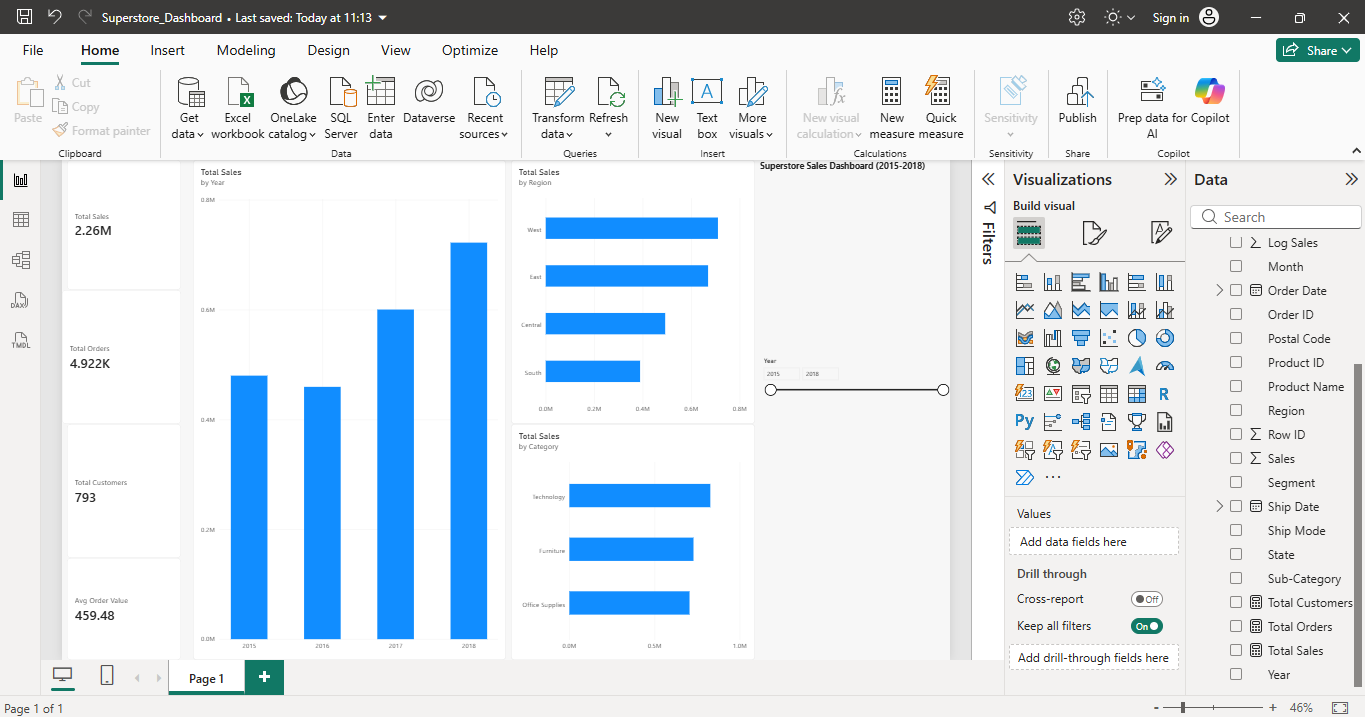

The page's visual inventory and layout, read from the dashboard file:
{"tool":"powerbi","page":{"name":"Page 1","canvas":[1920,1080],"ordinal":0},"visuals":[{"type":"cardVisual","fields":{"Data":["superstore_cleaned.Total Sales"]},"box":[10.8,0,246.2,280.8],"z":0},{"type":"cardVisual","fields":{"Data":["superstore_cleaned.Total Orders"]},"box":[0,280.8,257,289.4],"z":1000},{"type":"cardVisual","fields":{"Data":["superstore_cleaned.Total Customers"]},"box":[10.8,570.2,246.2,289.4],"z":2000},{"type":"cardVisual","fields":{"Data":["superstore_cleaned.Avg Order Value"]},"box":[10.8,859.7,246.2,220.3],"z":3000},{"type":"lineClusteredColumnComboChart","fields":{"Category":["superstore_cleaned.Year"],"Y":["superstore_cleaned.Total Sales"]},"box":[283,0,676.1,1080],"z":4000},{"type":"barChart","fields":{"Category":["superstore_cleaned.Category"],"Y":["superstore_cleaned.Total Sales"]},"box":[969.8,570.2,527,509.8],"z":5000},{"type":"barChart","fields":{"Category":["superstore_cleaned.Region"],"Y":["superstore_cleaned.Total Sales"]},"box":[969.8,0,527,570.2],"z":6000},{"type":"textbox","box":[1507.7,0,412.6,425.5],"z":6001},{"type":"slicer","fields":{"Values":["superstore_cleaned.Year"]},"box":[1507.7,425.5,412.6,399.6],"z":6002}]}

Visuals, with their boxes on the page's 1920x1080 design canvas (x1, y1, x2, y2). These are canvas units, not pixel positions in the 1365x717 screenshot, which may show the page scaled, cropped or inside an application window:
cardVisual - superstore_cleaned.Total Sales: (11, 0, 257, 281)
cardVisual - superstore_cleaned.Total Orders: (0, 281, 257, 570)
cardVisual - superstore_cleaned.Total Customers: (11, 570, 257, 860)
cardVisual - superstore_cleaned.Avg Order Value: (11, 860, 257, 1080)
lineClusteredColumnComboChart - superstore_cleaned.Year x superstore_cleaned.Total Sales: (283, 0, 959, 1080)
barChart - superstore_cleaned.Category x superstore_cleaned.Total Sales: (970, 570, 1497, 1080)
barChart - superstore_cleaned.Region x superstore_cleaned.Total Sales: (970, 0, 1497, 570)
textbox: (1508, 0, 1920, 426)
slicer - superstore_cleaned.Year: (1508, 426, 1920, 825)
